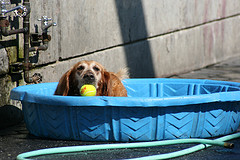tennis ball: (79, 84, 97, 97)
